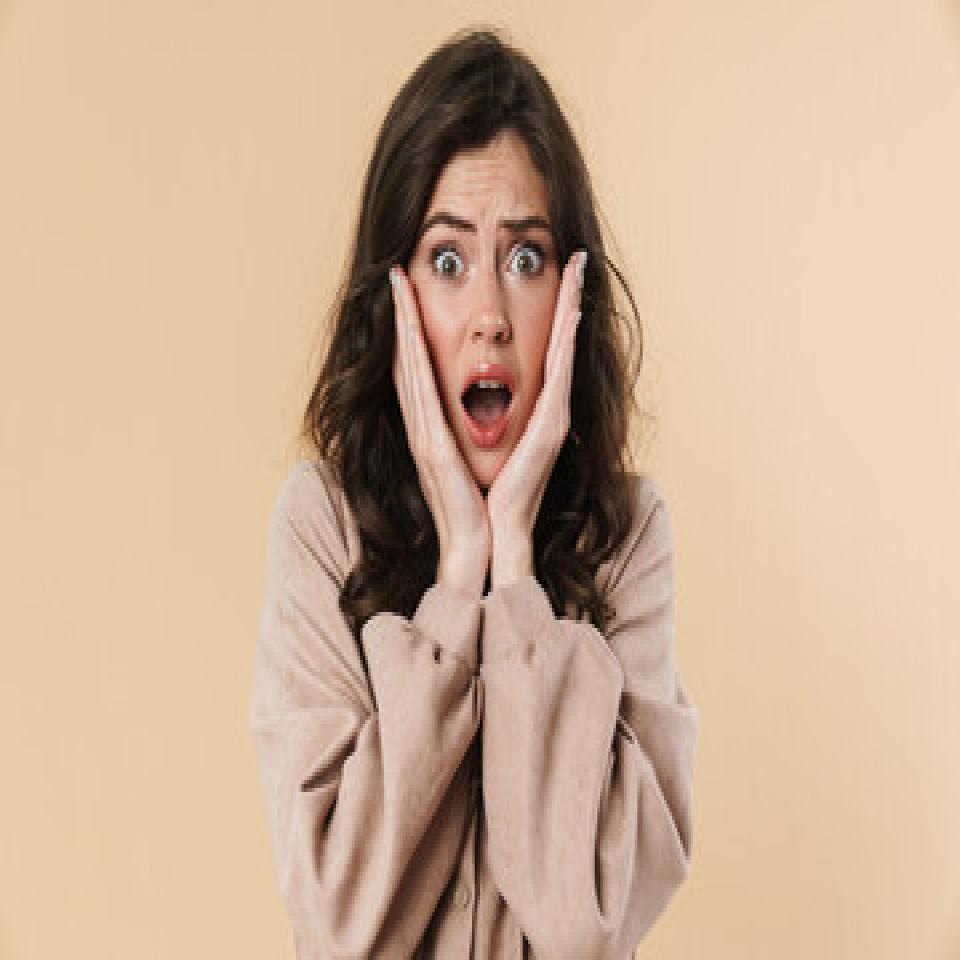Scared: (388, 145, 588, 559)
